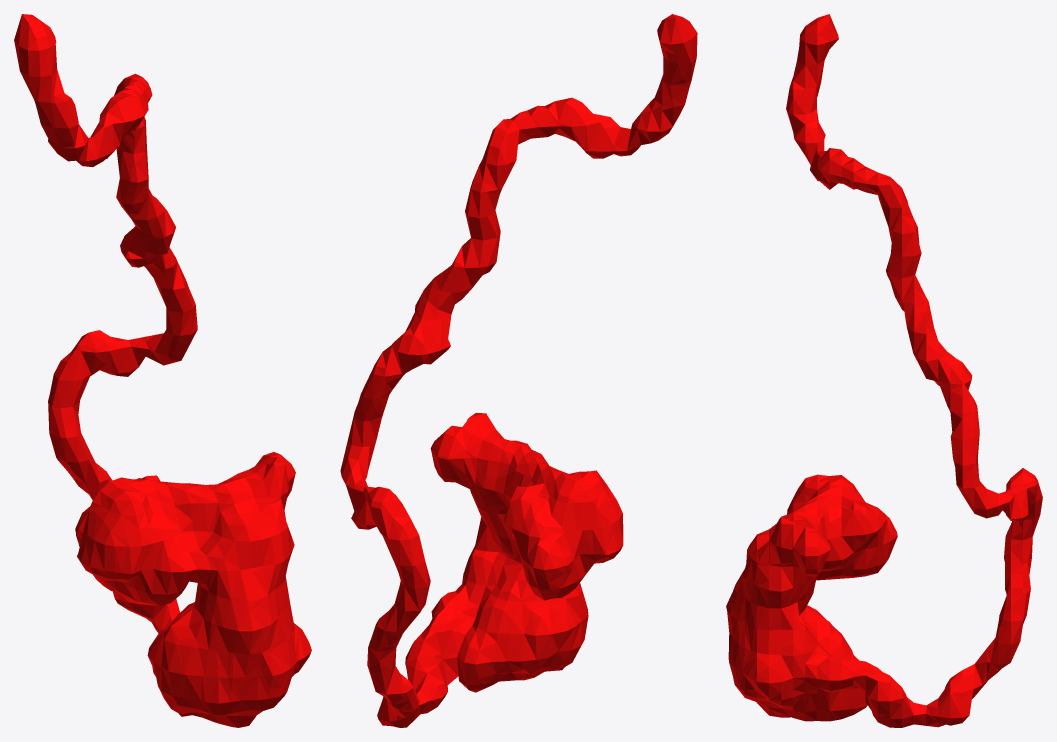
File: dnaA_coarse.dae
3 views of the same model, side by side, from view 1: azimuth 30°, elevation 25°; view 2: azimuth 150°, elevation 25°; view 3: azimuth 270°, elevation 25° (orthographic). The views are drawn at different scales.
Parts seen in each view (by area): view 1: dnaA; view 2: dnaA; view 3: dnaA.
Part boxes in pixels (x1,y1,x2,y2): dnaA: (14,14,311,727); dnaA: (340,14,697,727); dnaA: (726,14,1042,727).
Bounding box in the file's own units: 86.26 × 225 × 103.
